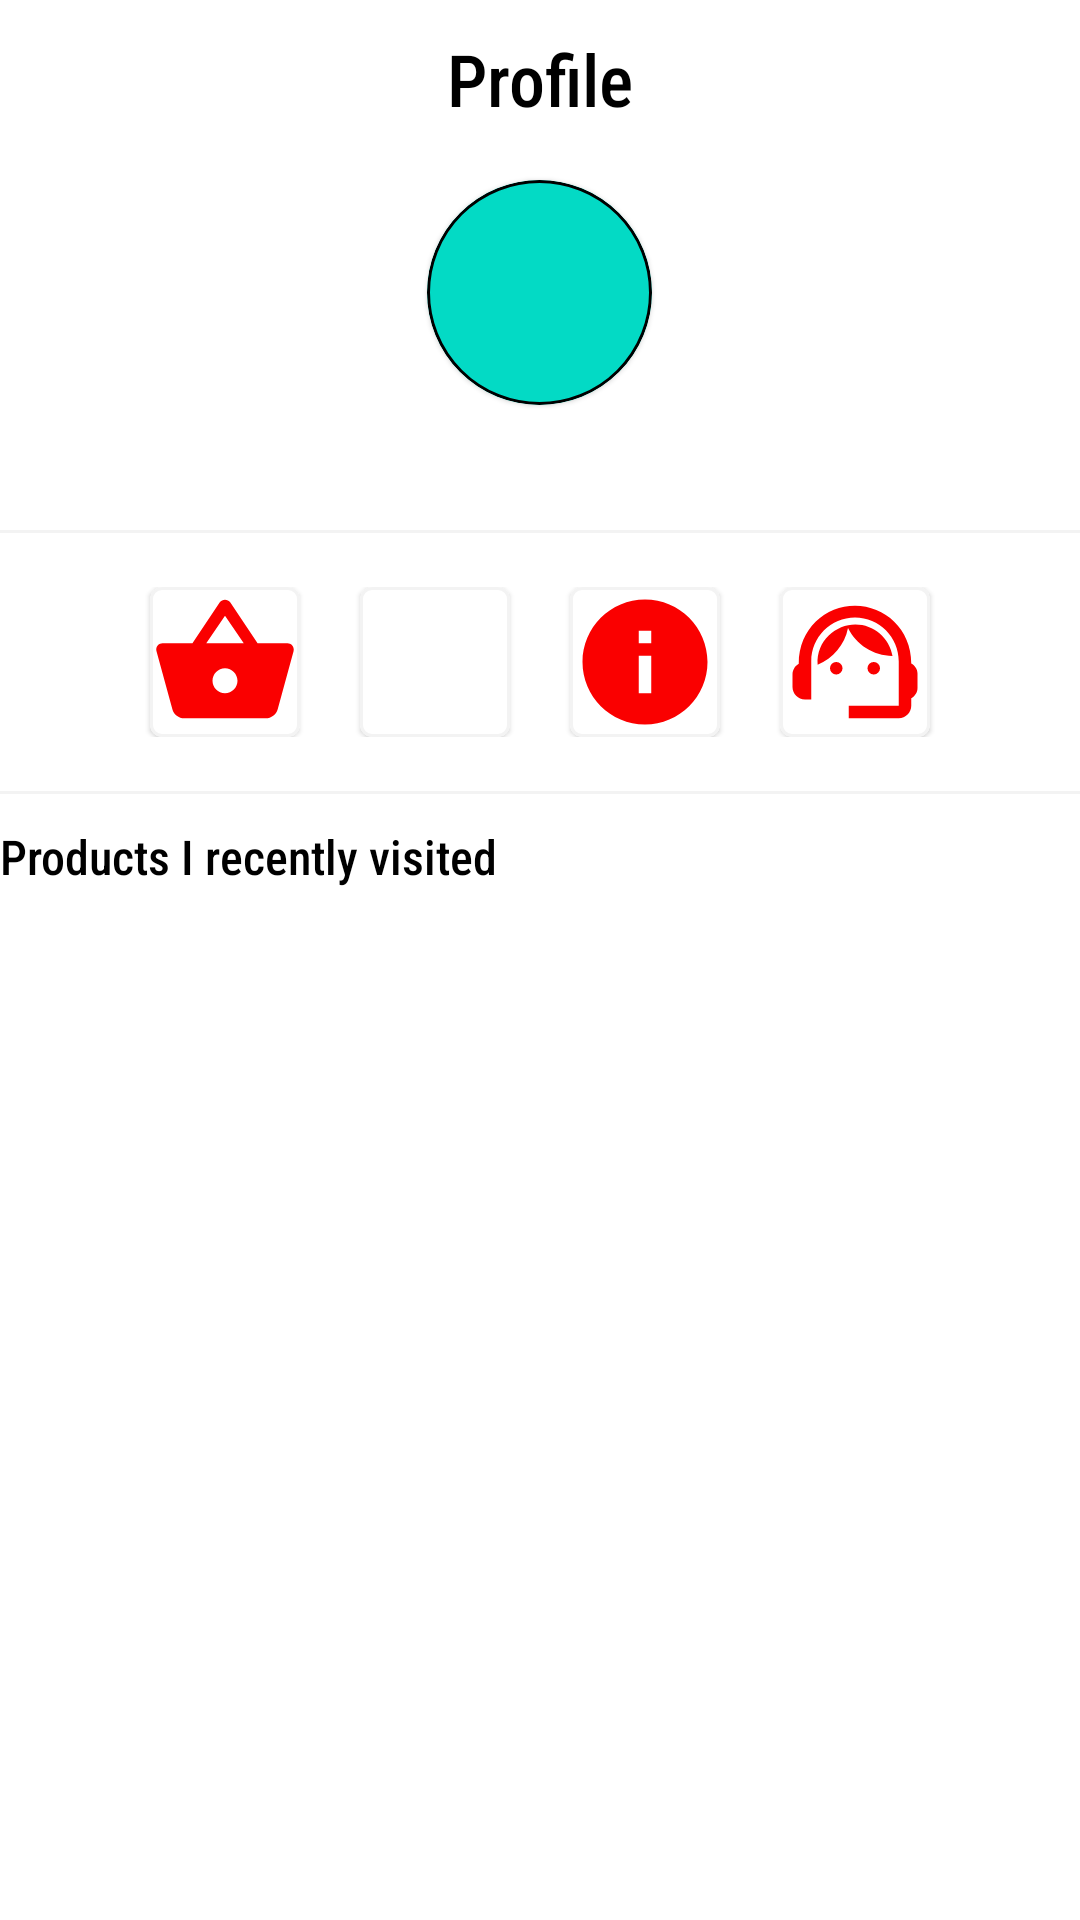

Icons on this 1080 × 1920 Android screen, each with its box as (x1, y1, x2, y2):
basket: (150, 599, 294, 737)
information: (577, 599, 719, 737)
support: (792, 605, 930, 737)
